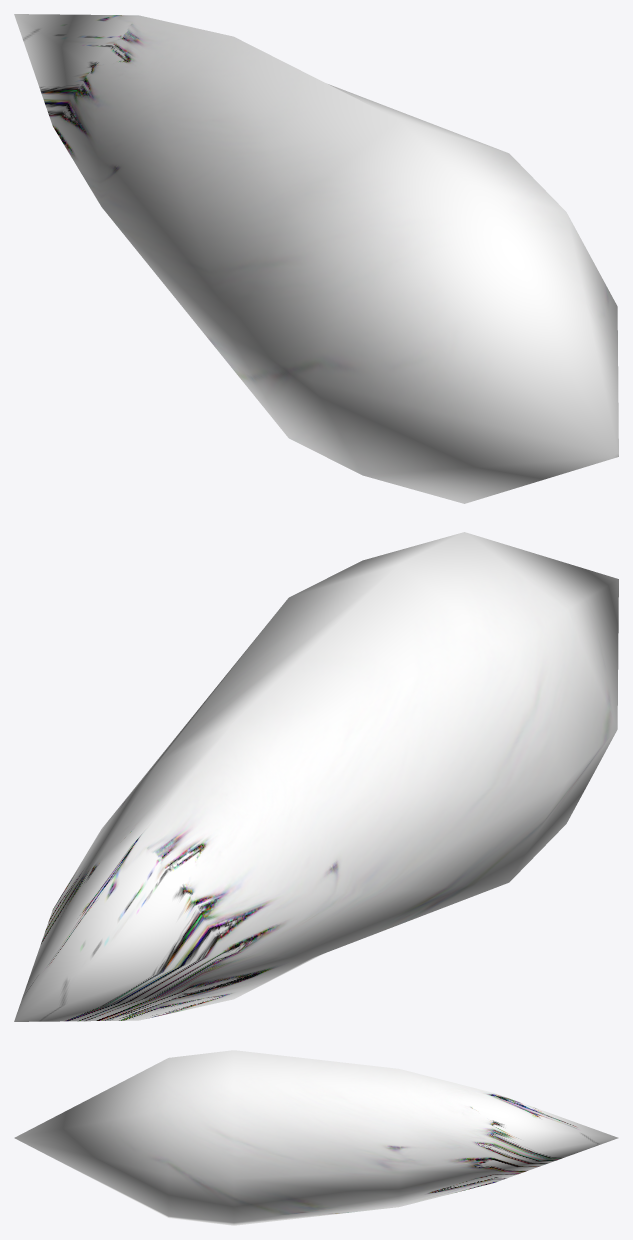
File: Projectile.fbx
3 renders of one model, top to bottom at view 1: azimuth 30°, elevation 25°; view 2: azimuth 150°, elevation 25°; view 3: azimuth 270°, elevation 25°, orthographic. The views are drawn at different scales.
Parts seen in each view (by area): view 1: Cube; view 2: Cube; view 3: Cube.
Boxes of the visible parts, left/top/right/bottom form: Cube: left=14, top=14, right=618, bottom=503; Cube: left=14, top=532, right=618, bottom=1021; Cube: left=14, top=1050, right=618, bottom=1225.
Bounding box in the file's own units: 1.98 × 1.98 × 6.19.
